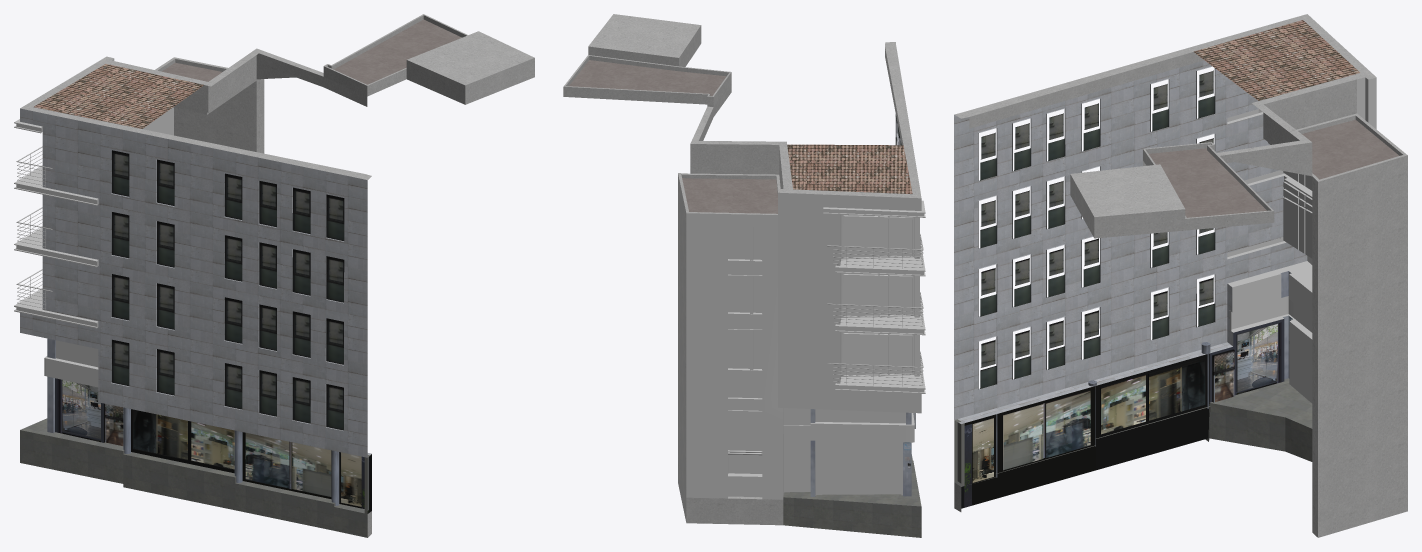
The model's file is creperia.fbx.
3 renders of one model, left to right at view 1: azimuth 30°, elevation 25°; view 2: azimuth 150°, elevation 25°; view 3: azimuth 270°, elevation 25°, orthographic. The views are drawn at different scales.
Visible parts, largest first — view 1: polySurface1686, polySurface1725, polySurface1724, polySurface1723, polySurface1722, polySurface1726, polySurface1721, polySurface1688, polySurface1687; view 2: polySurface1686, polySurface1721, polySurface1689, polySurface1690; view 3: polySurface1686, polySurface1725, polySurface1724, polySurface1722, polySurface1723, polySurface1721, polySurface1687, polySurface1726, polySurface1688.
Boxes of the visible parts, x1=… form: polySurface1686: x1=14, y1=14, x2=534, y2=513; polySurface1725: x1=98, y1=327, x2=367, y2=457; polySurface1724: x1=98, y1=142, x2=367, y2=253; polySurface1723: x1=98, y1=204, x2=367, y2=315; polySurface1722: x1=98, y1=266, x2=367, y2=376; polySurface1726: x1=123, y1=452, x2=371, y2=537; polySurface1721: x1=20, y1=418, x2=124, y2=483; polySurface1688: x1=42, y1=132, x2=98, y2=198; polySurface1687: x1=42, y1=194, x2=98, y2=259; polySurface1686: x1=563, y1=14, x2=925, y2=525; polySurface1721: x1=783, y1=460, x2=921, y2=537; polySurface1689: x1=840, y1=273, x2=921, y2=327; polySurface1690: x1=840, y1=214, x2=921, y2=268; polySurface1686: x1=954, y1=14, x2=1407, y2=537; polySurface1725: x1=954, y1=259, x2=1227, y2=419; polySurface1724: x1=954, y1=62, x2=1227, y2=195; polySurface1722: x1=954, y1=227, x2=1227, y2=330; polySurface1723: x1=954, y1=124, x2=1227, y2=263; polySurface1721: x1=1208, y1=378, x2=1312, y2=461; polySurface1687: x1=1227, y1=114, x2=1279, y2=180; polySurface1726: x1=954, y1=406, x2=1210, y2=511; polySurface1688: x1=1227, y1=78, x2=1258, y2=117.
Size of the model in its own units: 1983 by 1689 by 1672.
